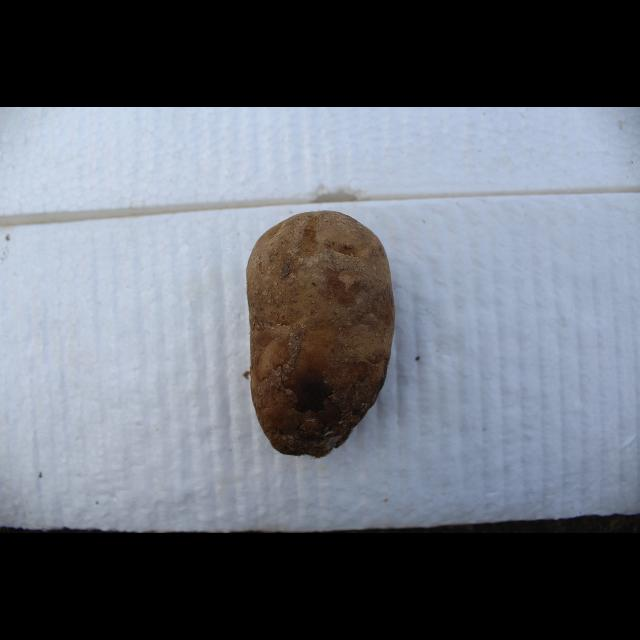Diseased-fungal potato: (239, 202, 399, 463)
